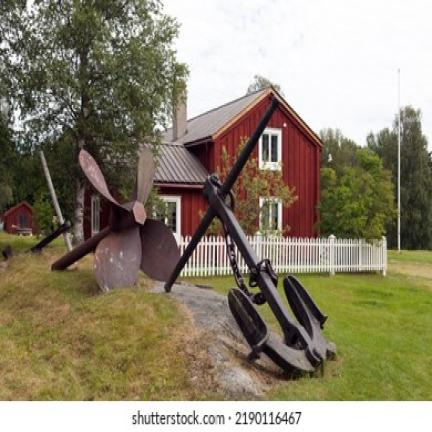karat: (53, 149, 179, 291)
